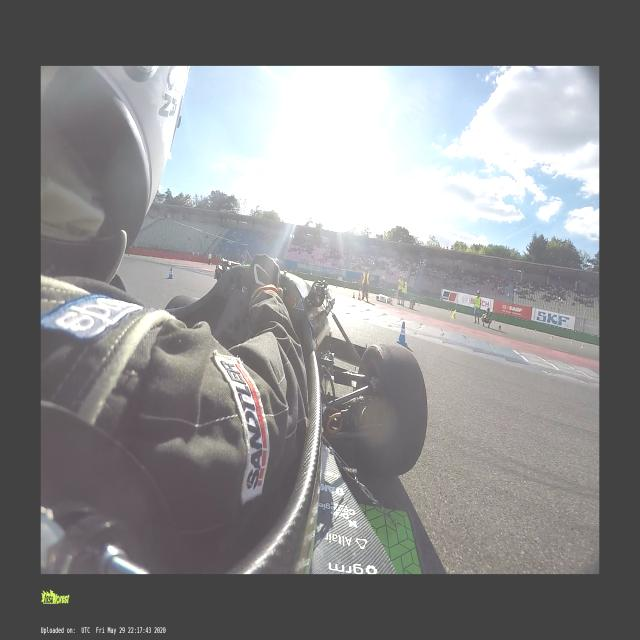blue_cone: (396, 322, 407, 346), (167, 267, 174, 279), (352, 292, 355, 299)
large_orange_cone: (358, 290, 360, 301)
yellow_cone: (498, 324, 502, 332), (451, 312, 455, 318), (580, 343, 584, 349), (550, 336, 554, 340), (570, 339, 574, 343), (522, 328, 526, 332), (534, 329, 537, 333), (493, 320, 495, 324)
